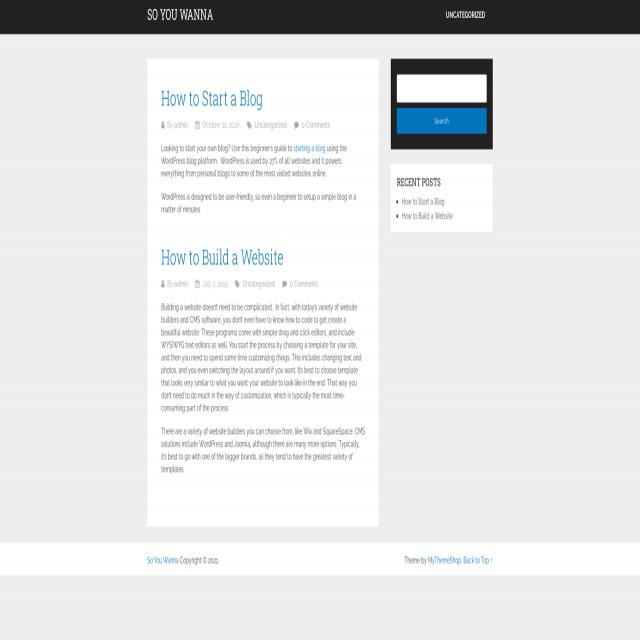field: (397, 74, 487, 102), (397, 108, 487, 134)
